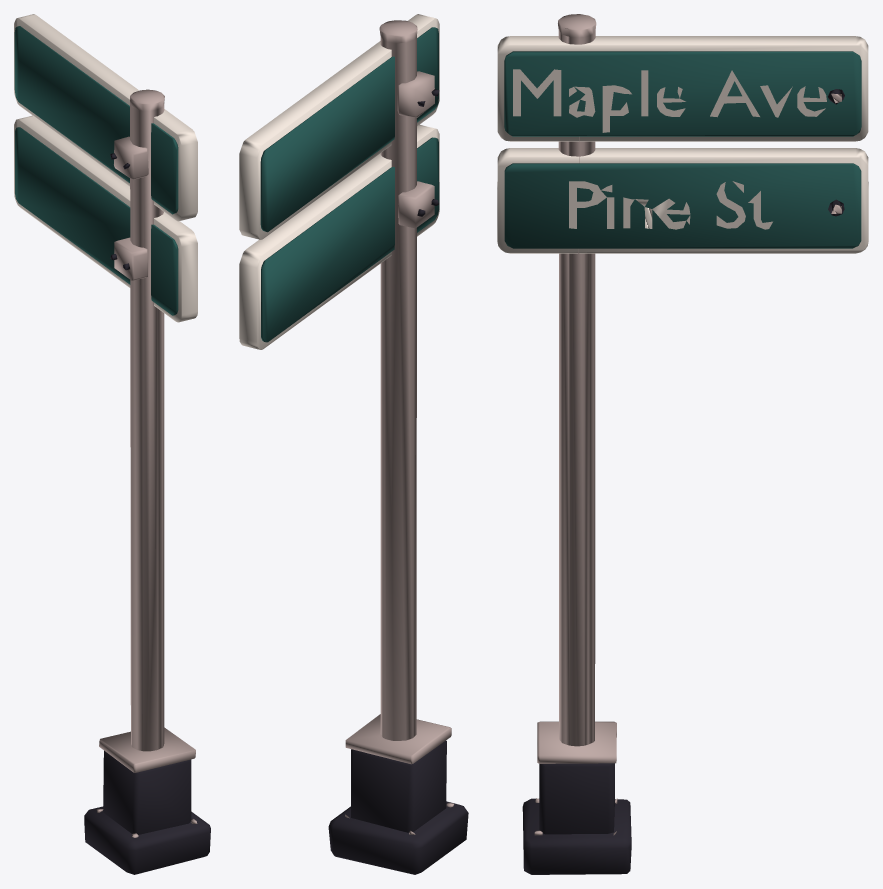
The picture shows the model from 3 angles, left to right: view 1: azimuth 30°, elevation 25°; view 2: azimuth 150°, elevation 25°; view 3: azimuth 270°, elevation 25°; orthographic projection. The views are drawn at different scales.
Size of the model in its own units: 0.3405 by 2.87 by 1.16.
